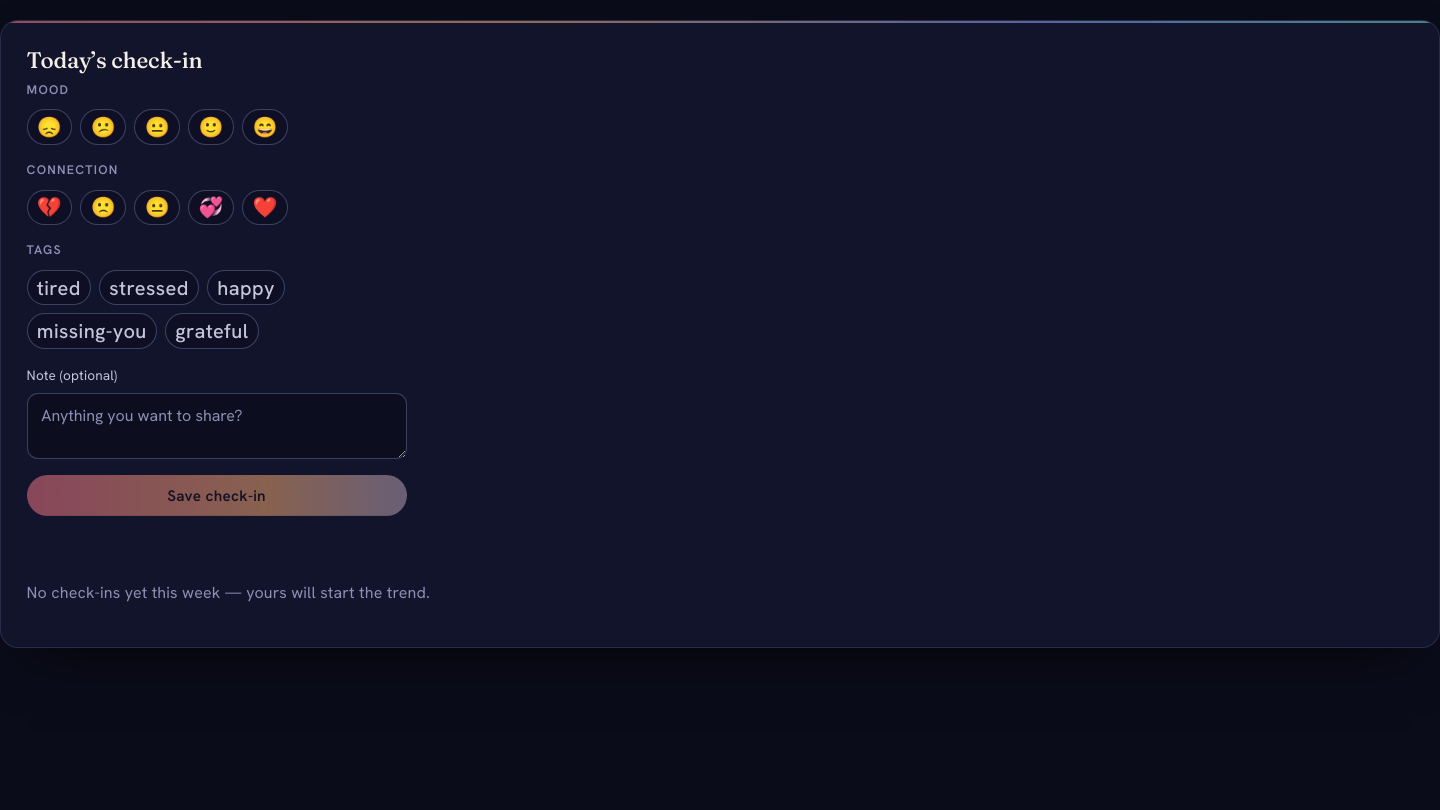
Test: CheckInCard › disables submit until both scores are chosen
The image size is (1440, 810).
Expected: the text "No check-ins yet this week — yours will start the trend." is shown, [27,582,430,603]
Expected: the button "Save check-in" is disabled, [27,475,407,516]
Click the radio button named "Good (4 of 5)".
click(211, 127)  # box [188,109,234,145]
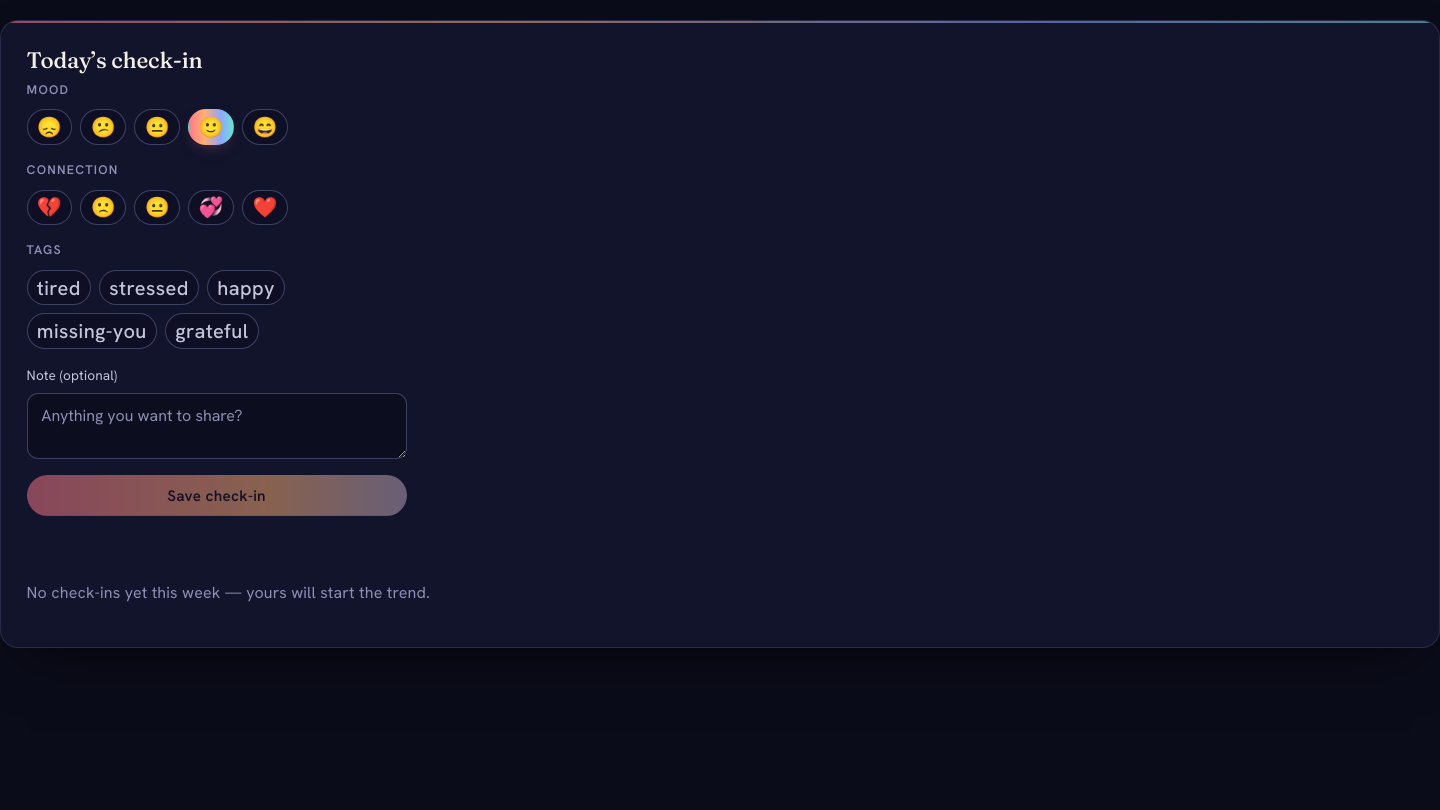
Expected: the button "Save check-in" is disabled, [27,475,407,516]
Click the radio button named "Connected (5 of 5)".
click(265, 207)  # box [242,190,288,225]
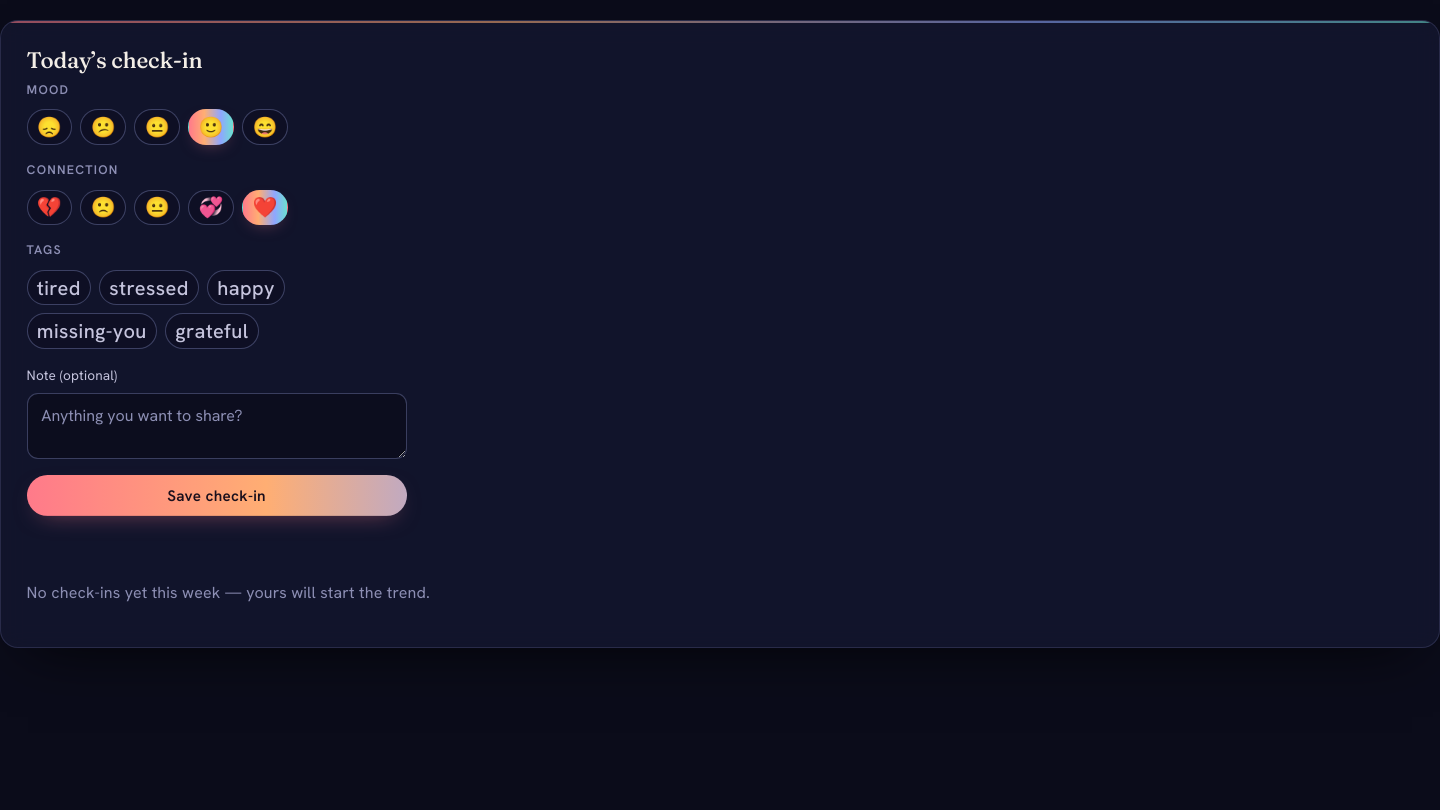
Result: the button "Save check-in" is enabled at [27,475,407,516]
